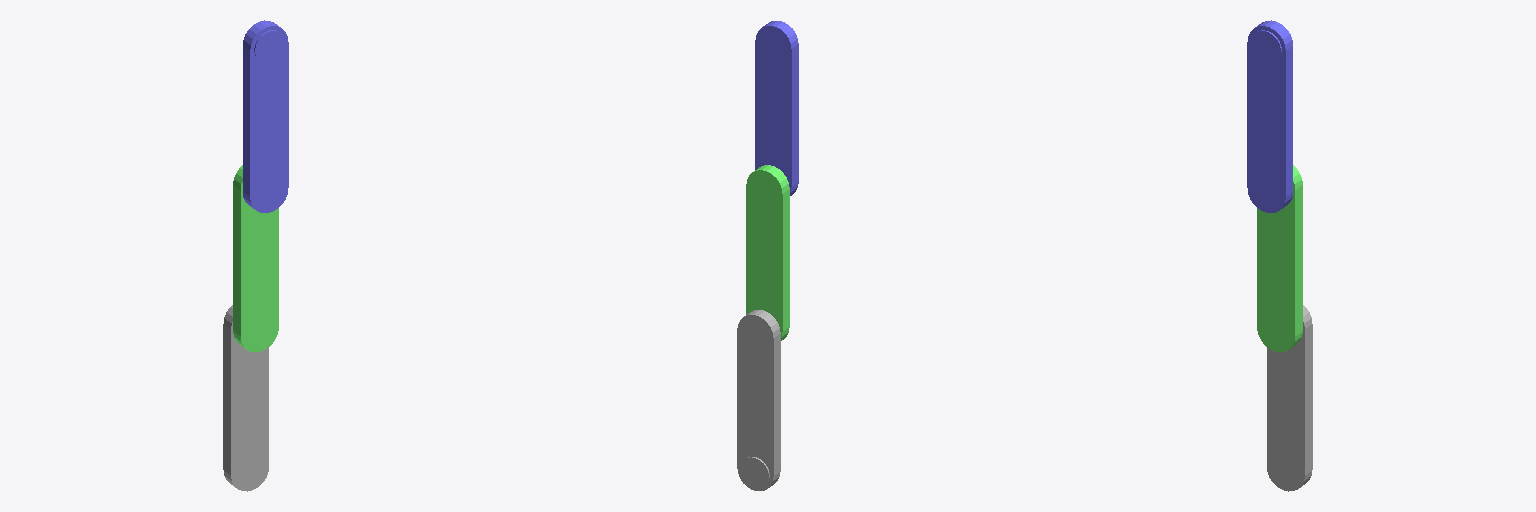
URDF robot description (Sim-Circular Cartpole L2.SLDASM):
<?xml version="1.0" encoding="utf-8"?>
<!-- This URDF was automatically created by SolidWorks to URDF Exporter! Originally created by Stephen Brawner (brawner@gmail.com) 
     Commit Version: 1.6.0-4-g7f85cfe  Build Version: 1.6.7995.38578
     For more information, please see http://wiki.ros.org/sw_urdf_exporter -->
<robot
  name="Sim-Circular Cartpole L2.SLDASM">
  <link
    name="base_link">
    <inertial>
      <origin
        xyz="2.19624296946261E-18 0.0326642091616594 0.000122090101760877"
        rpy="0 0 0" />
      <mass
        value="0.409778207134298" />
      <inertia
        ixx="0.000328708745423522"
        ixy="2.68735679678804E-20"
        ixz="-7.36106350895342E-21"
        iyy="0.00072201047906236"
        iyz="-3.67008610700572E-07"
        izz="0.000878189446080419" />
    </inertial>
    <visual>
      <origin
        xyz="0 0 0"
        rpy="0 0 0" />
      <geometry>
        <mesh
          filename="package://Sim-Circular Cartpole L2.SLDASM/meshes/base_link.STL" />
      </geometry>
      <material
        name="">
        <color
          rgba="0.752941176470588 0.752941176470588 0.752941176470588 1" />
      </material>
    </visual>
    <collision>
      <origin
        xyz="0 0 0"
        rpy="0 0 0" />
      <geometry>
        <mesh
          filename="package://Sim-Circular Cartpole L2.SLDASM/meshes/base_link.STL" />
      </geometry>
    </collision>
  </link>
  <link
    name="fixed_pole">
    <inertial>
      <origin
        xyz="1.17208920628325E-16 0.08 0.00949999999999999"
        rpy="0 0 0" />
      <mass
        value="0.132256413665709" />
      <inertia
        ixx="0.000435696040674517"
        ixy="-4.40810062966925E-21"
        ixz="-2.5410988417629E-22"
        iyy="2.27781932139765E-05"
        iyz="-2.6169466804403E-06"
        izz="0.000453100268484959" />
    </inertial>
    <visual>
      <origin
        xyz="0 0 0"
        rpy="0 0 0" />
      <geometry>
        <mesh
          filename="package://Sim-Circular Cartpole L2.SLDASM/meshes/fixed_pole.STL" />
      </geometry>
      <material
        name="">
        <color
          rgba="0.752941176470588 0.752941176470588 0.752941176470588 1" />
      </material>
    </visual>
    <collision>
      <origin
        xyz="0 0 0"
        rpy="0 0 0" />
      <geometry>
        <mesh
          filename="package://Sim-Circular Cartpole L2.SLDASM/meshes/fixed_pole.STL" />
      </geometry>
    </collision>
  </link>
  <joint
    name="base_to_fixed"
    type="continuous">
    <origin
      xyz="0 -0.027 0.04"
      rpy="1.5707963267949 0 0" />
    <parent
      link="base_link" />
    <child
      link="fixed_pole" />
    <axis
      xyz="0 0 1" />
  </joint>
  <link
    name="flex_1_pole">
    <inertial>
      <origin
        xyz="-2.80697133737223E-17 0.0799999999999999 0.0095"
        rpy="0 0 0" />
      <mass
        value="0.132256413665709" />
      <inertia
        ixx="0.000435696040674517"
        ixy="-4.94455482959698E-21"
        ixz="-3.48060474756121E-22"
        iyy="2.27781932139765E-05"
        iyz="-2.6169466804403E-06"
        izz="0.00045310026848496" />
    </inertial>
    <visual>
      <origin
        xyz="0 0 0"
        rpy="0 0 0" />
      <geometry>
        <mesh
          filename="package://Sim-Circular Cartpole L2.SLDASM/meshes/flex_1_pole.STL" />
      </geometry>
      <material
        name="">
        <color
          rgba="0.501960784313725 1 0.501960784313725 1" />
      </material>
    </visual>
    <collision>
      <origin
        xyz="0 0 0"
        rpy="0 0 0" />
      <geometry>
        <mesh
          filename="package://Sim-Circular Cartpole L2.SLDASM/meshes/flex_1_pole.STL" />
      </geometry>
    </collision>
  </link>
  <joint
    name="fixed_to_flex_1"
    type="continuous">
    <origin
      xyz="0 0.160000000000001 0.019"
      rpy="0 0 0" />
    <parent
      link="fixed_pole" />
    <child
      link="flex_1_pole" />
    <axis
      xyz="0 0 1" />
  </joint>
  <link
    name="flex_2_pole">
    <inertial>
      <origin
        xyz="4.91682109906557E-20 0.0800000000000015 0.00949999999999999"
        rpy="0 0 0" />
      <mass
        value="0.132256413665709" />
      <inertia
        ixx="0.000435696040674516"
        ixy="4.79632406382748E-21"
        ixz="-1.42936809849163E-21"
        iyy="2.27781932139765E-05"
        iyz="-2.6169466804403E-06"
        izz="0.000453100268484959" />
    </inertial>
    <visual>
      <origin
        xyz="0 0 0"
        rpy="0 0 0" />
      <geometry>
        <mesh
          filename="package://Sim-Circular Cartpole L2.SLDASM/meshes/flex_2_pole.STL" />
      </geometry>
      <material
        name="">
        <color
          rgba="0.501960784313725 0.501960784313725 1 1" />
      </material>
    </visual>
    <collision>
      <origin
        xyz="0 0 0"
        rpy="0 0 0" />
      <geometry>
        <mesh
          filename="package://Sim-Circular Cartpole L2.SLDASM/meshes/flex_2_pole.STL" />
      </geometry>
    </collision>
  </link>
  <joint
    name="flex_1_to_flex_2"
    type="continuous">
    <origin
      xyz="0 0.16 0.019"
      rpy="0 0 0" />
    <parent
      link="flex_1_pole" />
    <child
      link="flex_2_pole" />
    <axis
      xyz="0 0 1" />
  </joint>
</robot>

--- Facts derived from the render (not from the file) ---
Views: 3 orthographic renders of the robot side by side, from view 1: azimuth 30°, elevation 25°; view 2: azimuth 150°, elevation 25°; view 3: azimuth 330°, elevation 25°.
Robot: Sim-Circular Cartpole L2.SLDASM — 4 links, 3 joints (3 continuous); root link base_link; default pose: all joints at 0.
Links seen in each view (by area): view 1: flex_2_pole, flex_1_pole, fixed_pole; view 2: fixed_pole, flex_1_pole, flex_2_pole; view 3: flex_2_pole, flex_1_pole, fixed_pole.
Link boxes in pixels (x1=…): flex_2_pole: x1=243, y1=20, x2=288, y2=212; flex_1_pole: x1=233, y1=165, x2=278, y2=351; fixed_pole: x1=223, y1=305, x2=268, y2=491; fixed_pole: x1=737, y1=310, x2=780, y2=490; flex_1_pole: x1=746, y1=165, x2=789, y2=340; flex_2_pole: x1=755, y1=21, x2=798, y2=195; flex_2_pole: x1=1247, y1=20, x2=1292, y2=212; flex_1_pole: x1=1257, y1=165, x2=1302, y2=351; fixed_pole: x1=1267, y1=305, x2=1312, y2=491.
Size in the robot's own frame: 0.044 by 0.057 by 0.5236 metres.
Meshes: 4 distinct files referenced, 3 mesh visuals loaded (3 binary STL); not drawn: 1 (reference not matched to a file when rendering).
